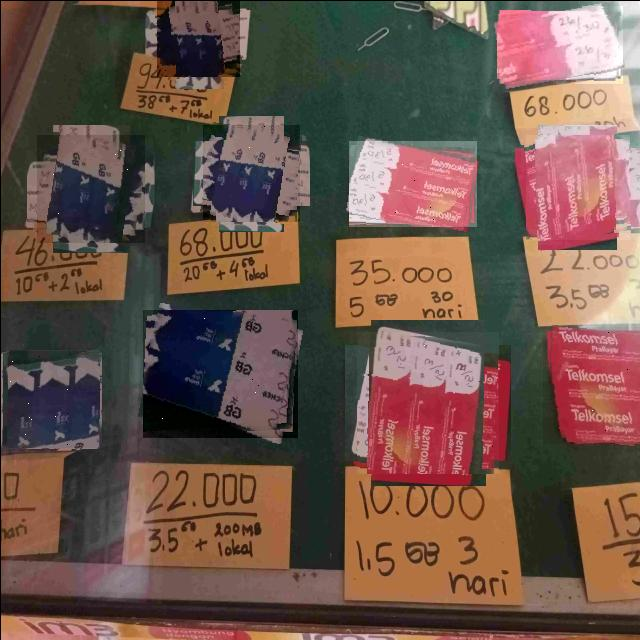Gratis Nelpon: (142, 309, 297, 437), (36, 134, 144, 242), (2, 350, 101, 447), (202, 124, 299, 221), (156, 0, 239, 76)
Telkomsel: (356, 331, 498, 473), (542, 326, 640, 443), (348, 140, 476, 226), (525, 134, 629, 239), (496, 5, 622, 83)
